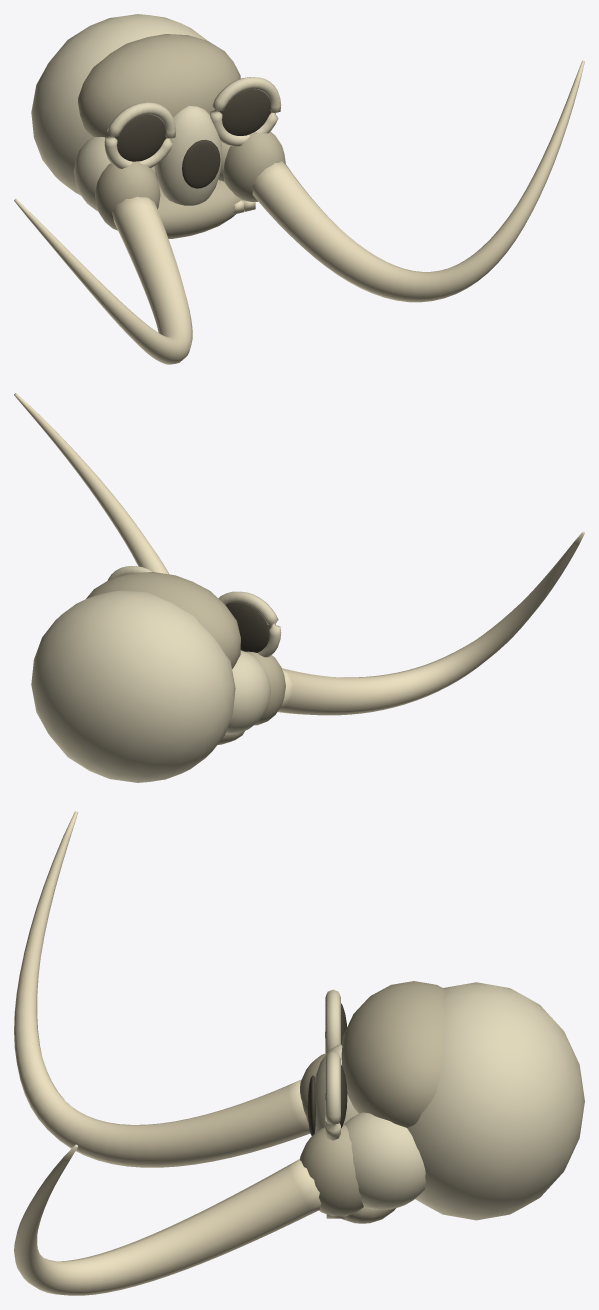
Rendered from 04_Craniu_Mamut_Unity_Y_Up.obj.
3 renders of one model, top to bottom at view 1: azimuth 30°, elevation 25°; view 2: azimuth 150°, elevation 25°; view 3: azimuth 270°, elevation 25°, orthographic. The views are drawn at different scales.
Parts seen in each view (by area): view 1: ivory, bone, bone_mid, bone_dark; view 2: bone, ivory, bone_mid, bone_dark; view 3: bone, ivory, bone_mid, bone_dark.
Boxes of the visible parts, x1,y1,x2,y2 form: ivory: (14,60,584,364); bone: (31,14,281,211); bone_mid: (78,34,285,238); bone_dark: (115,89,271,188); bone: (31,566,281,782); ivory: (14,393,584,715); bone_mid: (86,572,285,744); bone_dark: (225,602,271,652); bone: (314,982,584,1220); ivory: (14,811,344,1295); bone_mid: (300,981,444,1223); bone_dark: (307,1003,347,1135).
Bounding box in the file's own units: 4.46 × 1.53 × 3.21.
